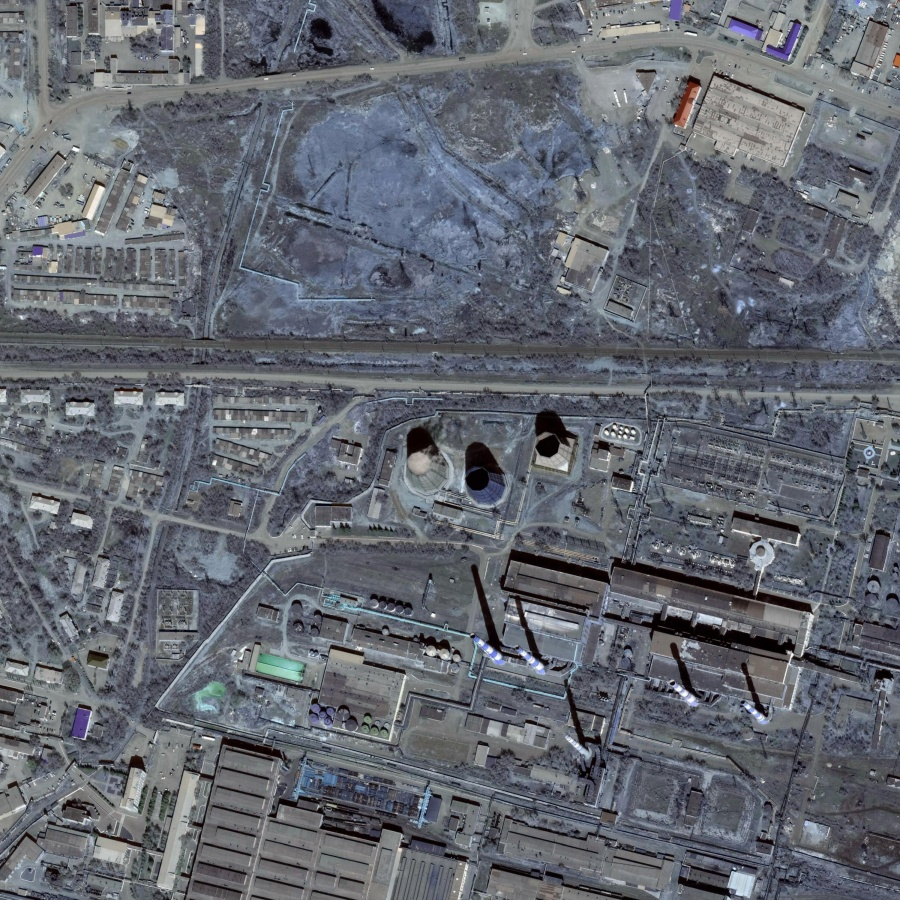PowerPlant: (393, 393, 807, 767)
